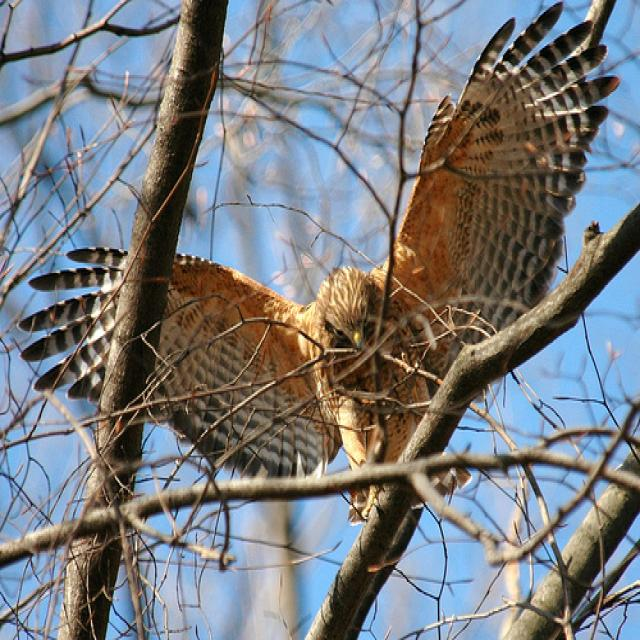bird: (17, 1, 623, 528)
